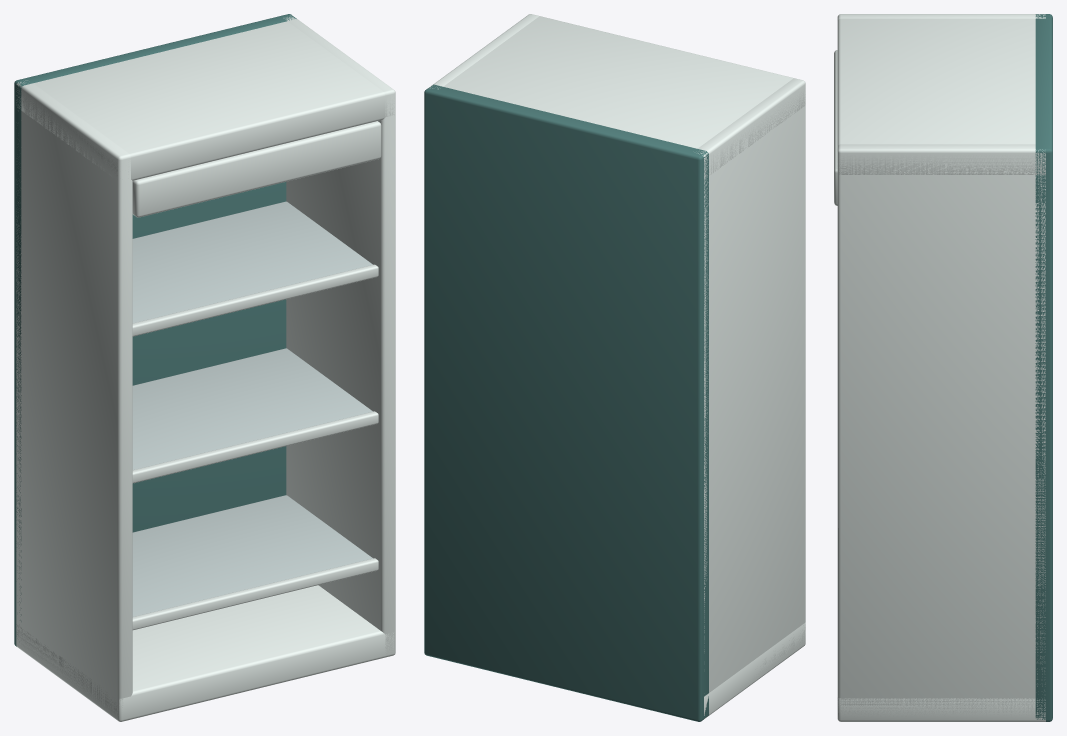
The model's file is service_fridge.glb.
3 views of the same model, side by side, from view 1: azimuth 30°, elevation 25°; view 2: azimuth 150°, elevation 25°; view 3: azimuth 270°, elevation 25° (orthographic).
Visible parts, largest first — view 1: Cube.001, Cube.002, Cube.004, Cube, Cube.003, Cube.005, Cube.007, Cube.009, Cube.011, Cube.006, Cube.008, Cube.010; view 2: Cube, Cube.001, Cube.004, Cube.003, Cube.002; view 3: Cube.002, Cube.004, Cube, Cube.003, Cube.001, Cube.011.
Boxes of the visible parts, x1,y1,x2,y2 form: Cube.001: (16,80,132,721); Cube.002: (283,15,395,656); Cube.004: (16,21,394,180); Cube: (14,14,296,646); Cube.003: (16,585,393,721); Cube.005: (132,495,372,616); Cube.007: (132,348,372,469); Cube.009: (132,201,372,323); Cube.011: (132,121,381,217); Cube.006: (132,558,378,630); Cube.008: (132,411,378,483); Cube.010: (132,264,378,336); Cube: (424,84,708,721); Cube.001: (698,78,805,719); Cube.004: (443,16,805,178); Cube.003: (704,622,805,715); Cube.002: (428,14,539,89); Cube.002: (837,144,1045,721); Cube.004: (837,18,1045,174); Cube: (1035,14,1052,721); Cube.003: (837,697,1045,721); Cube.001: (837,14,1045,20); Cube.011: (834,50,837,205).
Size of the model in its own units: 0.95 by 1.85 by 0.64.
